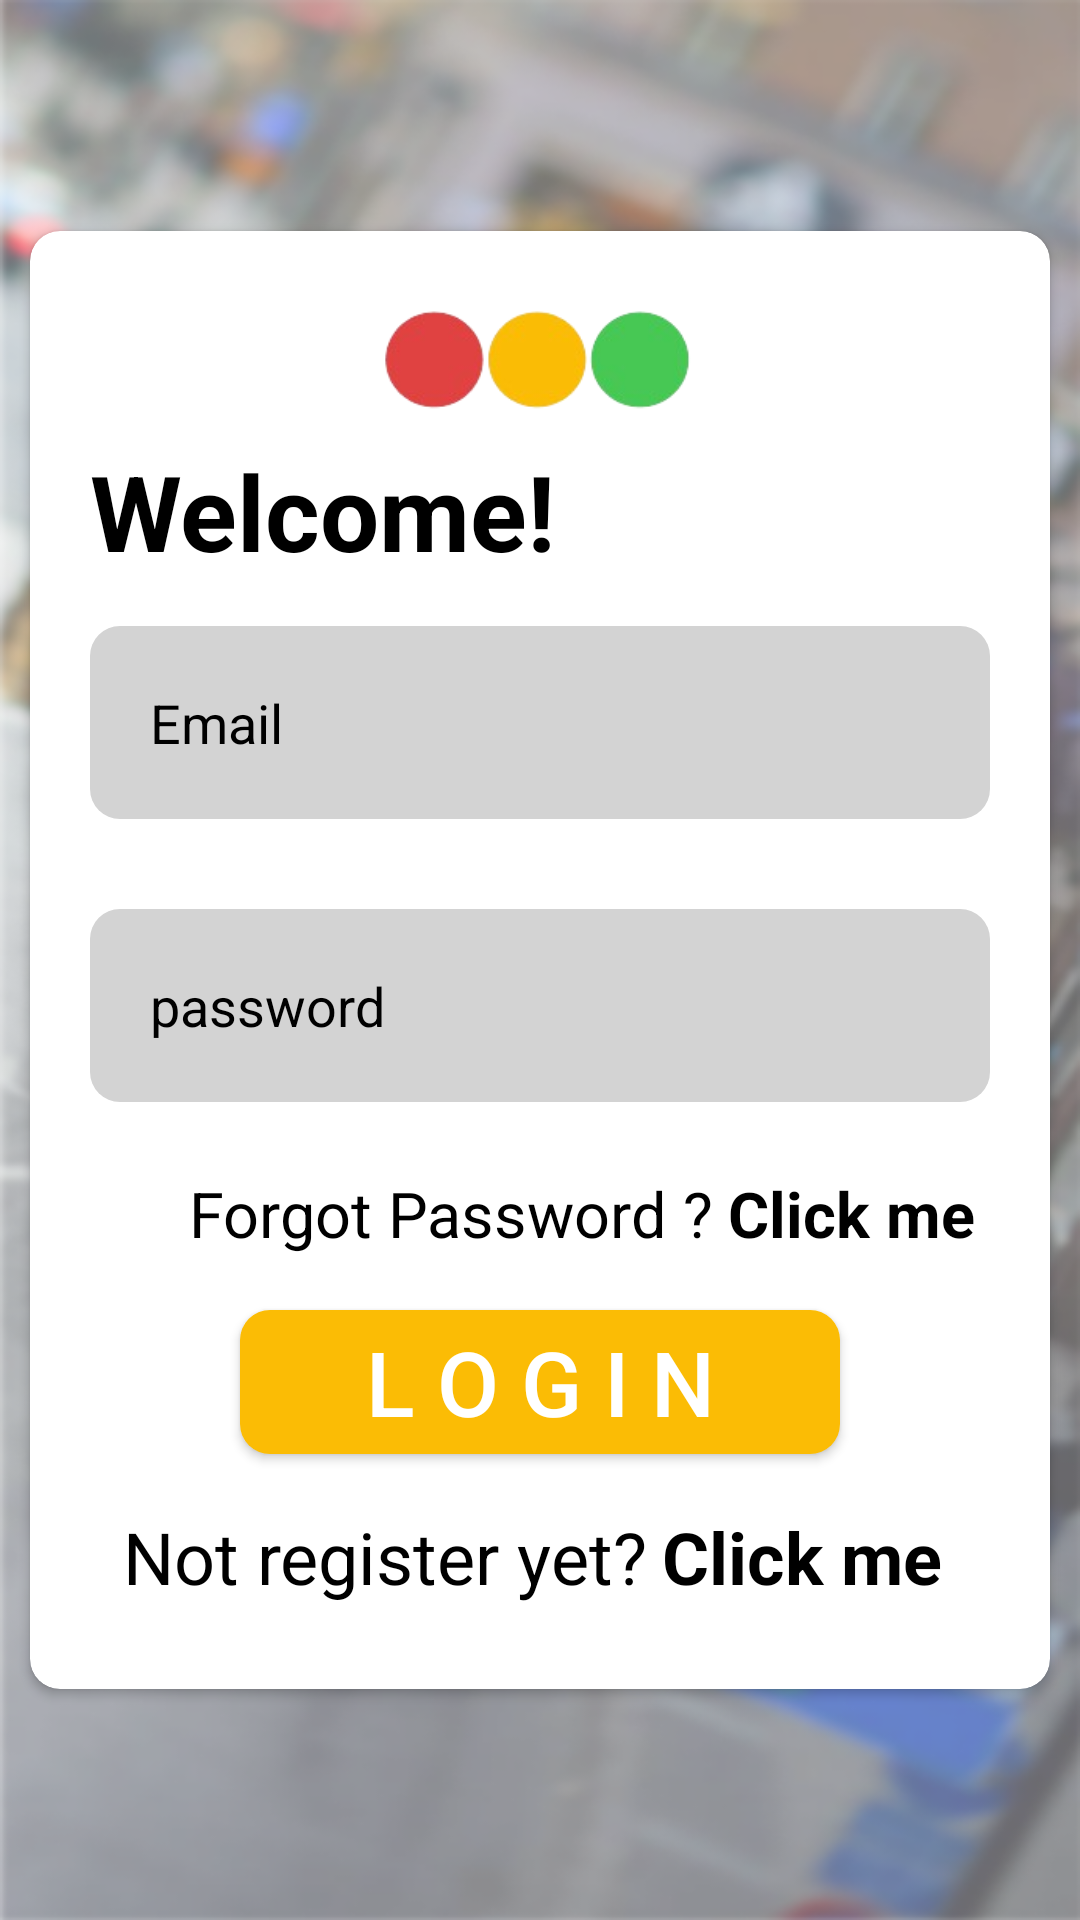

Named icons in this screenshot (1080×1920) and their centers, (x,y):
signel: (537,359)
